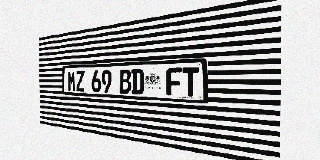6: (91, 70, 101, 92)
9: (101, 70, 112, 93)
B: (119, 69, 131, 94)
D: (131, 69, 144, 94)
F: (166, 67, 182, 96)
M: (68, 71, 76, 91)
T: (182, 67, 199, 97)
Z: (76, 71, 85, 92)
